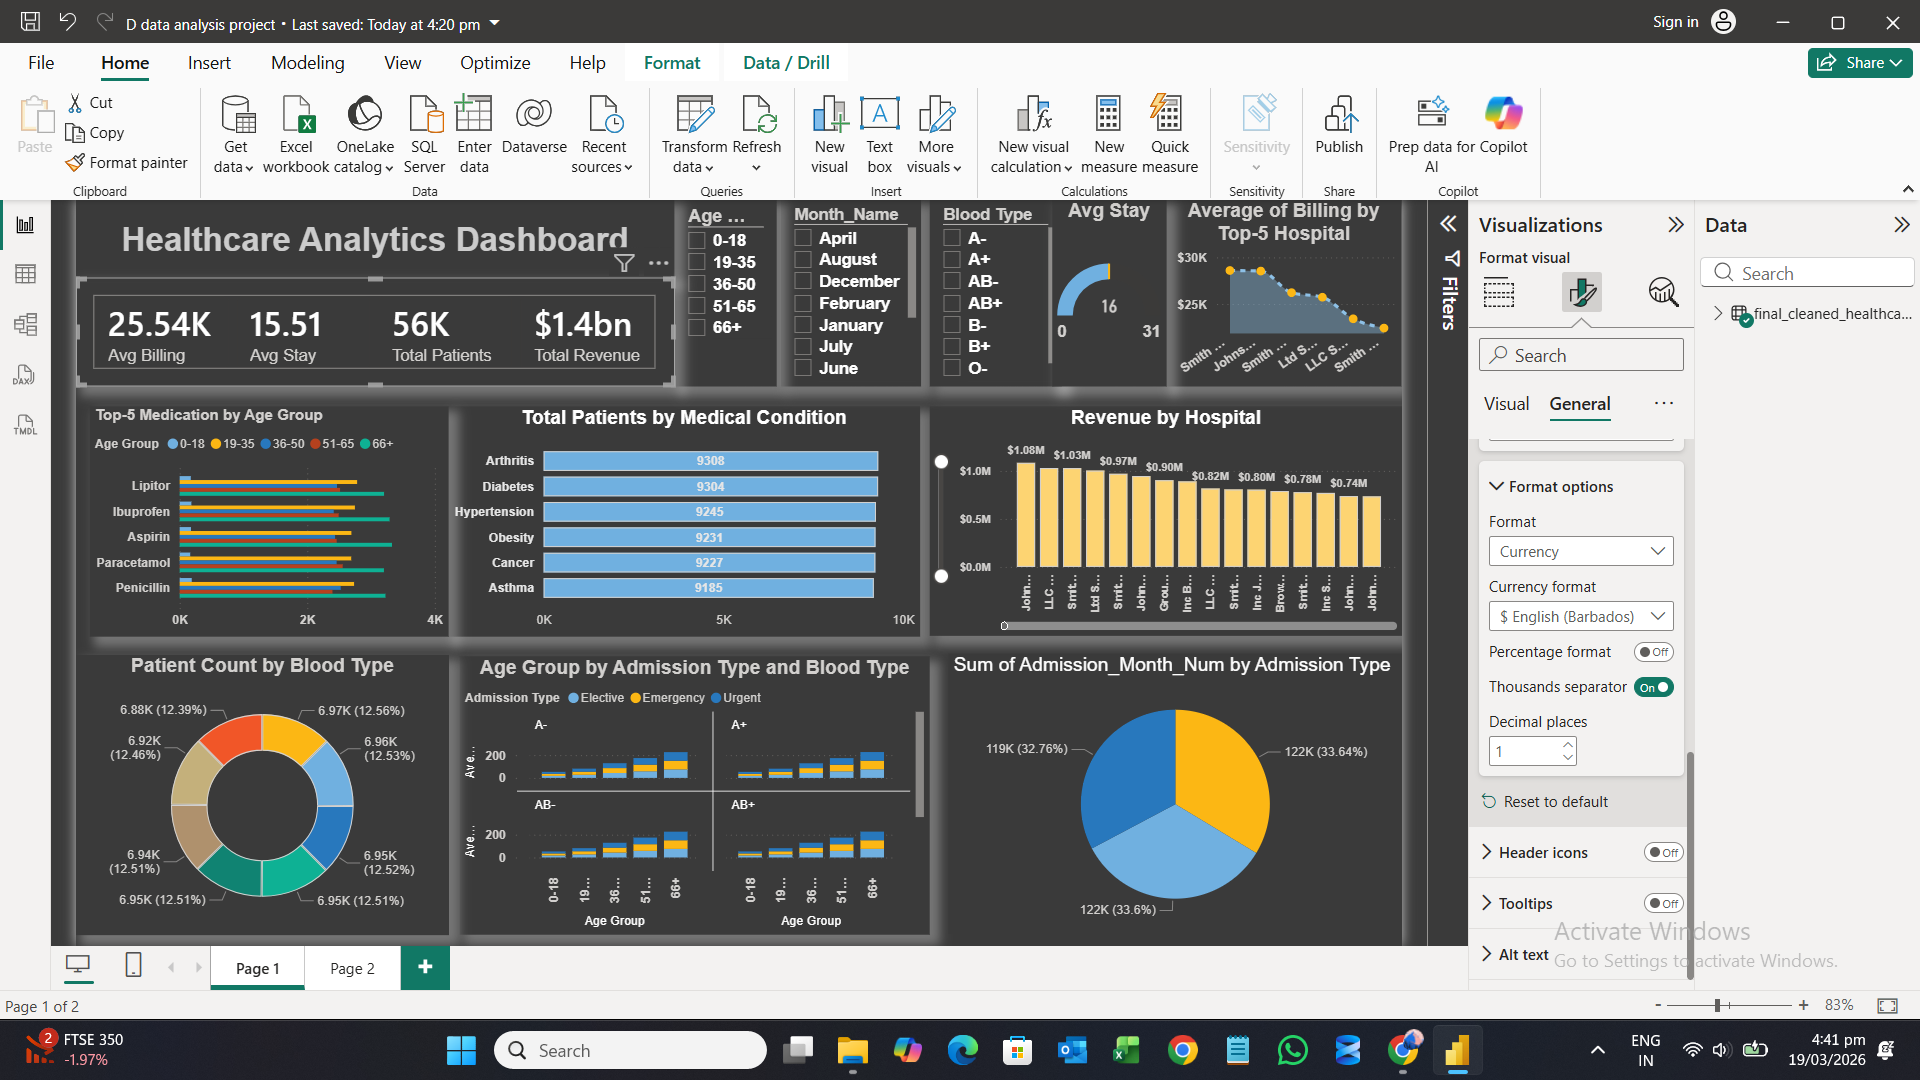

Layout of this report page (visuals, bound fields, positions):
{"tool":"powerbi","page":{"name":"Page 1","canvas":[1280,720],"ordinal":0},"visuals":[{"type":"cardVisual","fields":{"Data":["final_cleaned_healthcare_data.Avg Billing","final_cleaned_healthcare_data.Avg Stay","final_cleaned_healthcare_data.Total Patients","final_cleaned_healthcare_data.Total Revenue"]},"box":[0,75,577.5,105],"z":0},{"type":"clusteredBarChart","fields":{"Category":["final_cleaned_healthcare_data.Medical Condition"],"Y":["final_cleaned_healthcare_data.Total Patients"]},"box":[360,198.8,455,222.5],"z":1000},{"type":"clusteredColumnChart","title":"Revenue by Hospital","fields":{"Category":["final_cleaned_healthcare_data.Hospital"],"Y":["Sum(final_cleaned_healthcare_data.Billing Amount)"]},"box":[823.8,198.8,456.2,221.2],"z":2000},{"type":"lineStackedColumnComboChart","title":"Age Group by Admission Type and Blood Type","fields":{"Category":["final_cleaned_healthcare_data.Age Group"],"Series":["final_cleaned_healthcare_data.Admission Type"],"Y":["Avg(final_cleaned_healthcare_data.Age)"],"Rows":["final_cleaned_healthcare_data.Blood Type"]},"box":[370,440,453.8,268.8],"z":3000},{"type":"pieChart","fields":{"Category":["final_cleaned_healthcare_data.Admission Type"],"Y":["Sum(final_cleaned_healthcare_data.Admission_Month_Num)"]},"box":[841.7,438.3,438.3,270],"z":4000},{"type":"slicer","fields":{"Values":["final_cleaned_healthcare_data.Admission_Month_Name"]},"box":[680,0,135,180],"z":5000},{"type":"slicer","fields":{"Values":["final_cleaned_healthcare_data.Age Group"]},"box":[577.5,0,98.8,180],"z":6000},{"type":"slicer","fields":{"Values":["final_cleaned_healthcare_data.Blood Type"]},"box":[823.8,0,127.5,180],"z":7000},{"type":"textbox","box":[0,0,577.5,75],"z":8000},{"type":"clusteredBarChart","title":"Top-5 Medication by Age Group","fields":{"Series":["final_cleaned_healthcare_data.Age Group"],"Y":["final_cleaned_healthcare_data.Medication Count"],"Category":["final_cleaned_healthcare_data.Medication"]},"box":[13.8,198.8,346.2,222.5],"z":9000},{"type":"donutChart","fields":{"Category":["final_cleaned_healthcare_data.Blood Type"],"Y":["final_cleaned_healthcare_data.Patient Count"]},"box":[0,438.8,360,270],"z":10000},{"type":"lineChart","title":"Average of Billing by Top-5 Hospital","fields":{"Category":["final_cleaned_healthcare_data.Hospital"],"Y":["Avg(final_cleaned_healthcare_data.Billing Amount)"]},"box":[1052.5,0,227.5,180],"z":11000},{"type":"gauge","fields":{"Y":["final_cleaned_healthcare_data.Avg Stay"]},"box":[942.5,0,110,180],"z":12000}]}

Visuals, with their boxes on the page's 1280x720 design canvas (x1, y1, x2, y2). These are canvas units, not pixel positions in the 1920x1080 screenshot, which may show the page scaled, cropped or inside an application window:
cardVisual - final_cleaned_healthcare_data.Avg Billing x final_cleaned_healthcare_data.Avg Stay: bbox(0, 75, 578, 180)
clusteredBarChart - final_cleaned_healthcare_data.Medical Condition x final_cleaned_healthcare_data.Total Patients: bbox(360, 199, 815, 421)
"Revenue by Hospital" clusteredColumnChart: bbox(824, 199, 1280, 420)
"Age Group by Admission Type and Blood Type" lineStackedColumnComboChart: bbox(370, 440, 824, 709)
pieChart - final_cleaned_healthcare_data.Admission Type x Sum(final_cleaned_healthcare_data.Admission_Month_Num): bbox(842, 438, 1280, 708)
slicer - final_cleaned_healthcare_data.Admission_Month_Name: bbox(680, 0, 815, 180)
slicer - final_cleaned_healthcare_data.Age Group: bbox(578, 0, 676, 180)
slicer - final_cleaned_healthcare_data.Blood Type: bbox(824, 0, 951, 180)
textbox: bbox(0, 0, 578, 75)
"Top-5 Medication by Age Group" clusteredBarChart: bbox(14, 199, 360, 421)
donutChart - final_cleaned_healthcare_data.Blood Type x final_cleaned_healthcare_data.Patient Count: bbox(0, 439, 360, 709)
"Average of Billing by Top-5 Hospital" lineChart: bbox(1052, 0, 1280, 180)
gauge - final_cleaned_healthcare_data.Avg Stay: bbox(942, 0, 1052, 180)
